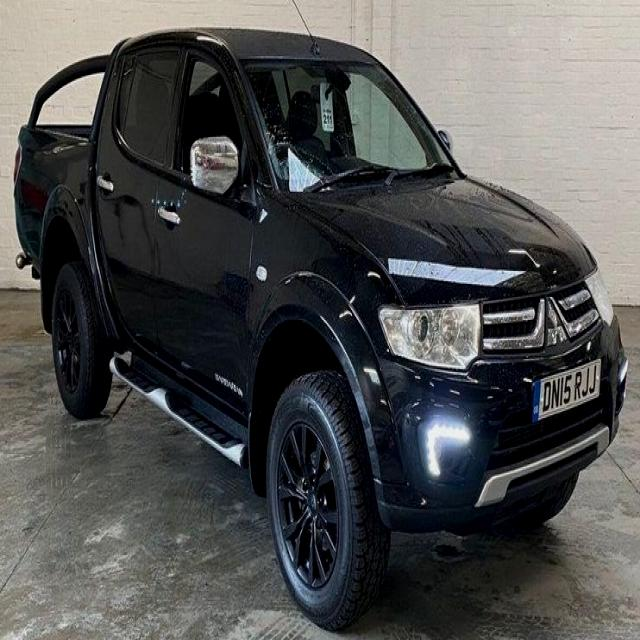CMT: (14, 18, 622, 609)
